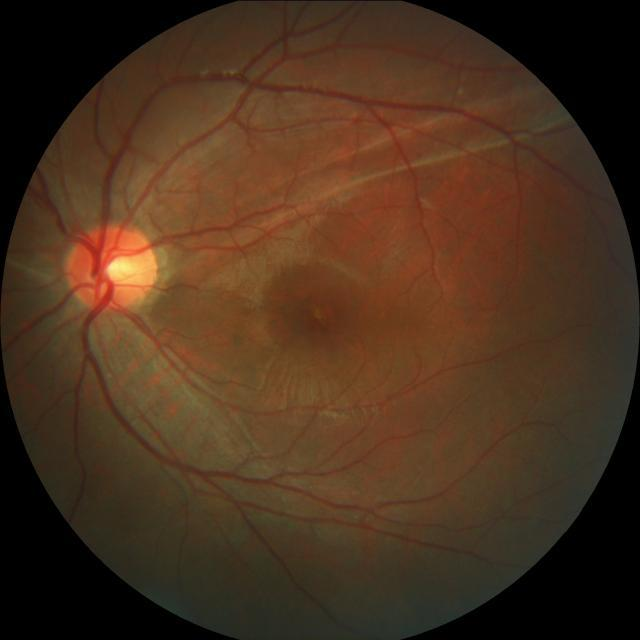OC: (100, 254, 132, 282)
OD: (64, 222, 156, 312)
